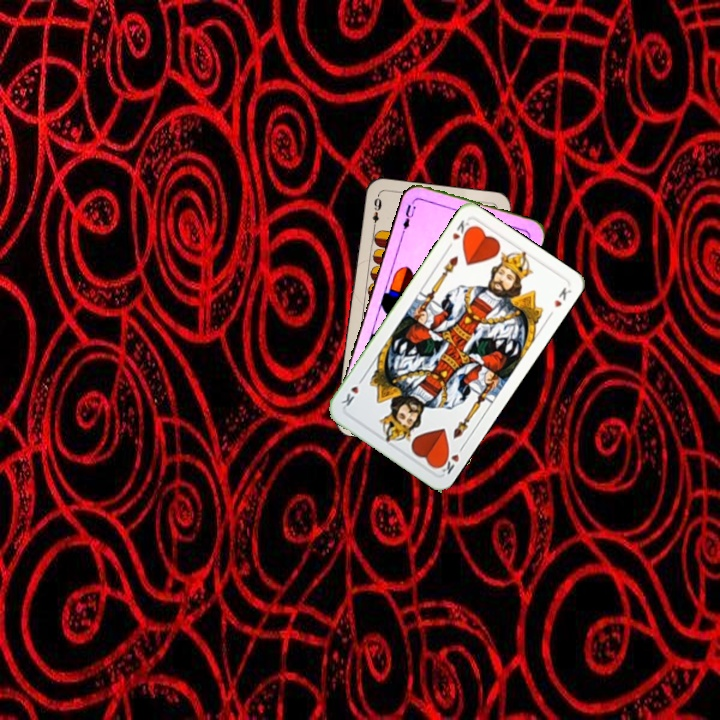E9: (368, 192, 384, 232)
EU: (399, 195, 420, 236)
HK: (443, 216, 474, 252), (434, 447, 462, 477)
